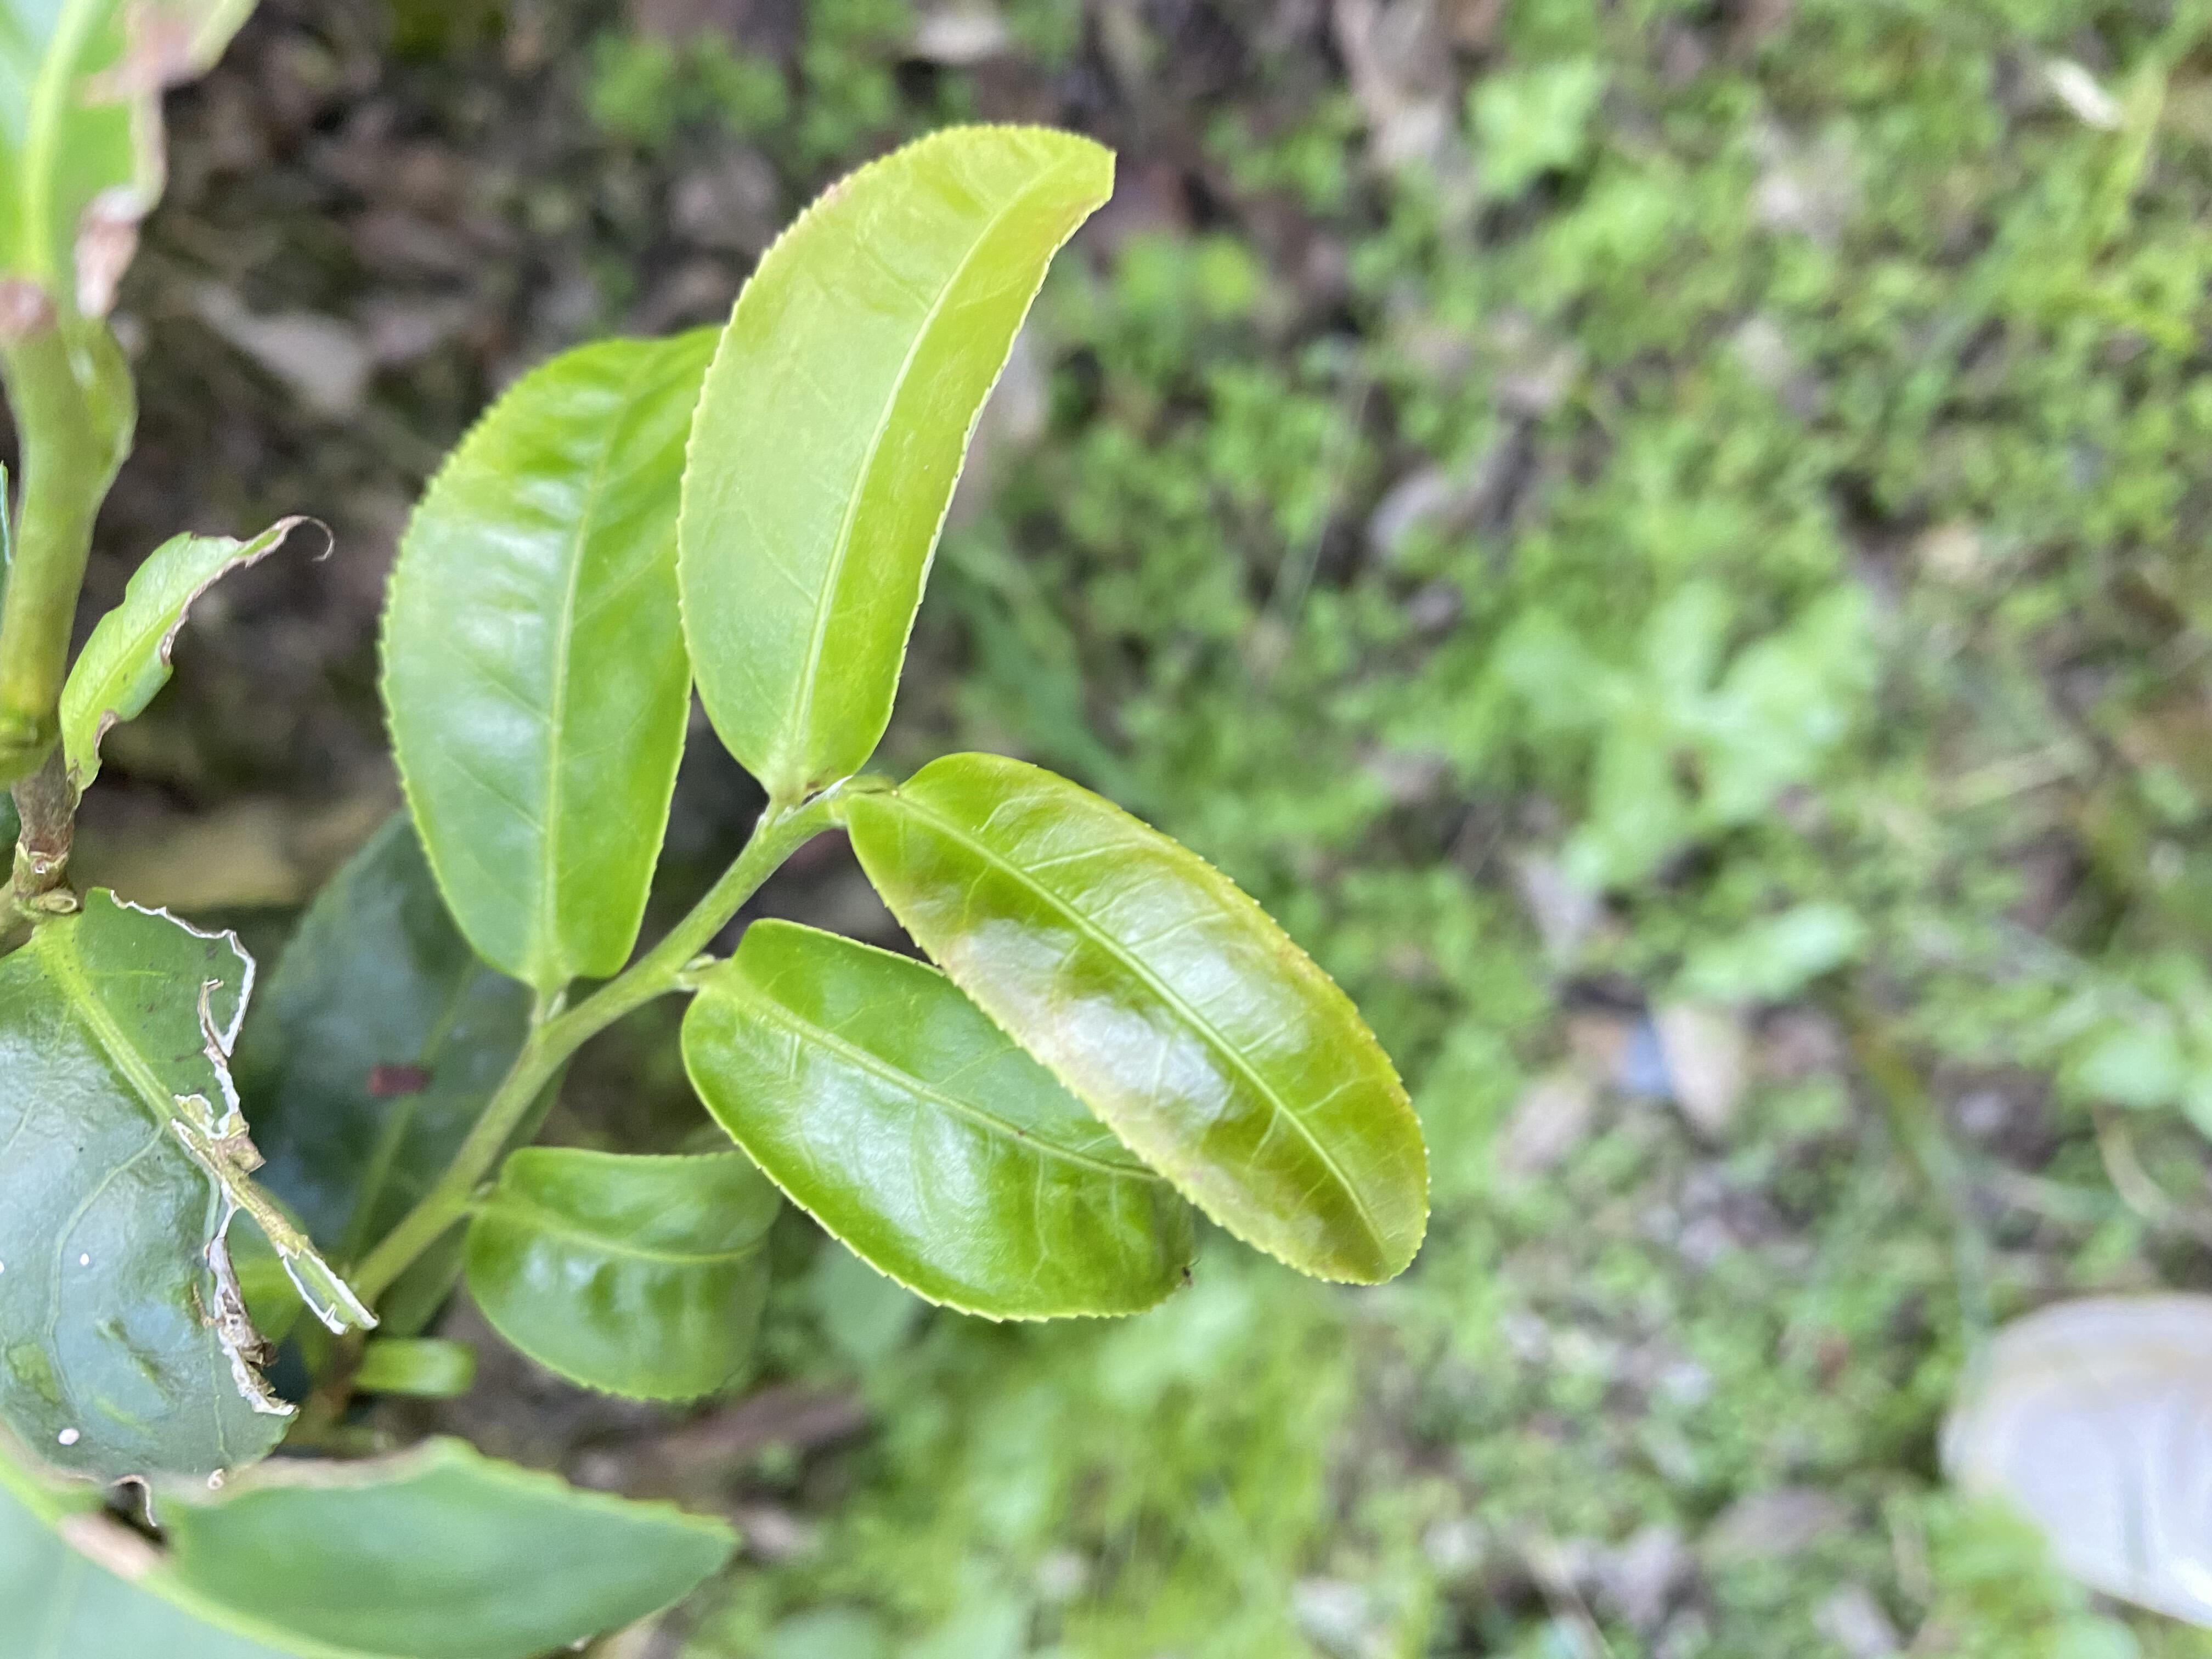chihuo_high: (0, 885, 298, 1523), (61, 516, 340, 796)
healthy: (843, 748, 1437, 1286), (669, 120, 1118, 789), (674, 917, 1202, 1328), (373, 326, 693, 983)
